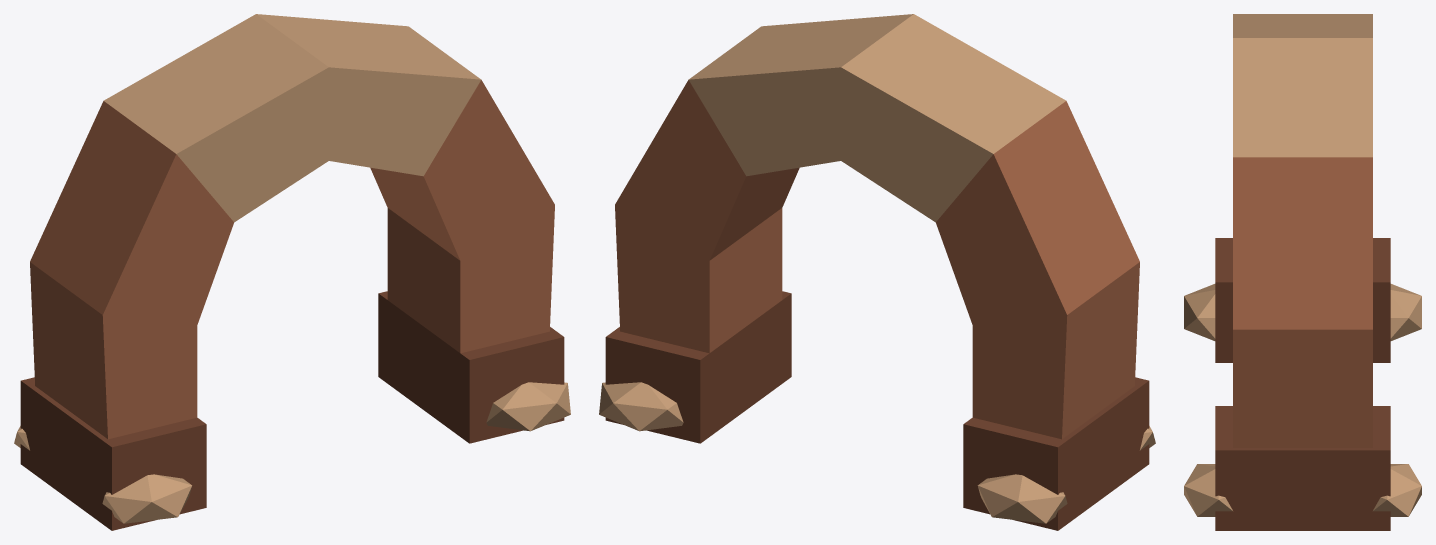
File: Desert_RockArch_Showcase.glb
3 views of the same model, side by side, from view 1: azimuth 30°, elevation 25°; view 2: azimuth 150°, elevation 25°; view 3: azimuth 270°, elevation 25° (orthographic). The views are drawn at different scales.
Parts seen in each view (by area): view 1: Desert_RockArch_Showcase; view 2: Desert_RockArch_Showcase; view 3: Desert_RockArch_Showcase.
Boxes of the visible parts, left/top/right/bottom form: Desert_RockArch_Showcase: left=14, top=14, right=570, bottom=530; Desert_RockArch_Showcase: left=599, top=14, right=1155, bottom=530; Desert_RockArch_Showcase: left=1184, top=14, right=1421, bottom=530.
Bounding box in the file's own units: 4.4 × 3.65 × 2.04.
